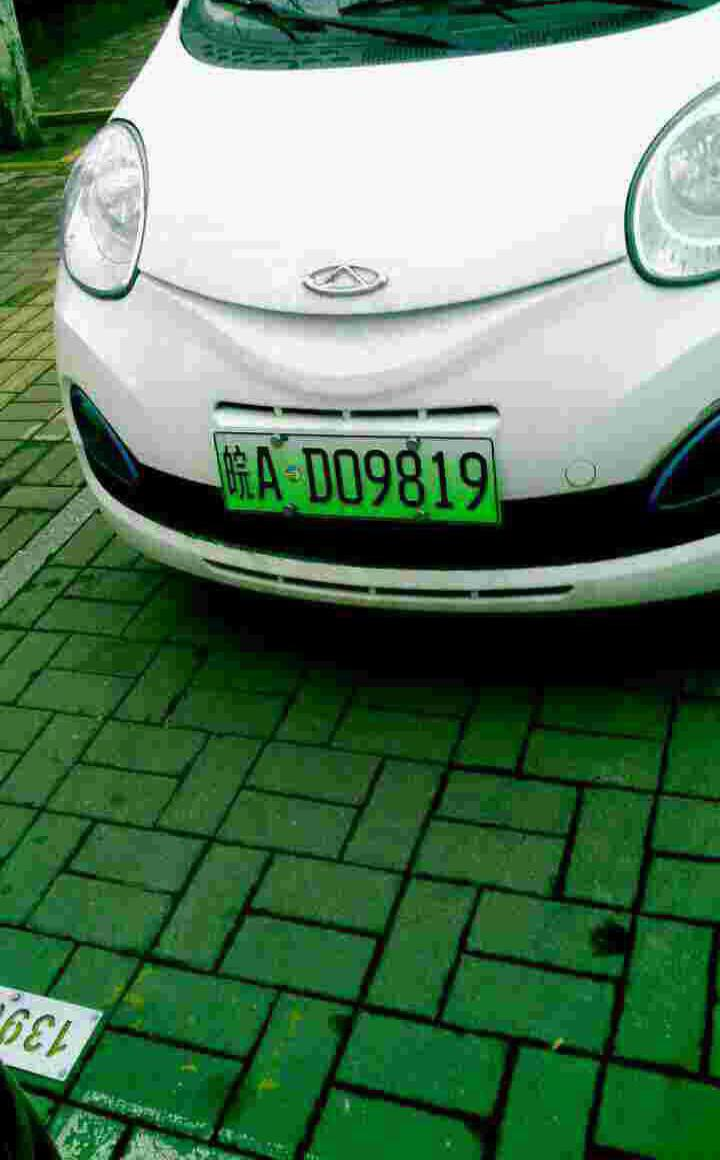car_id: (213, 432, 499, 520)
